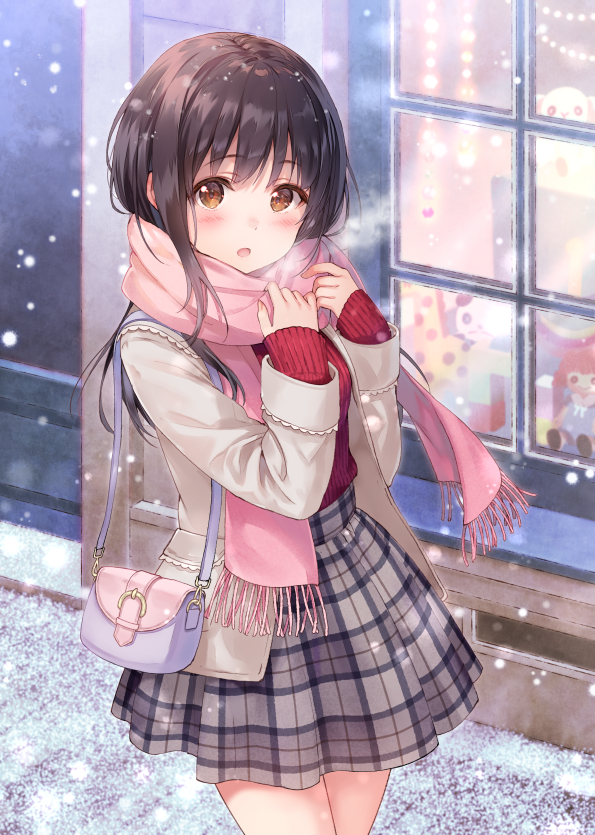纸片人正脸: (111, 22, 348, 281)
